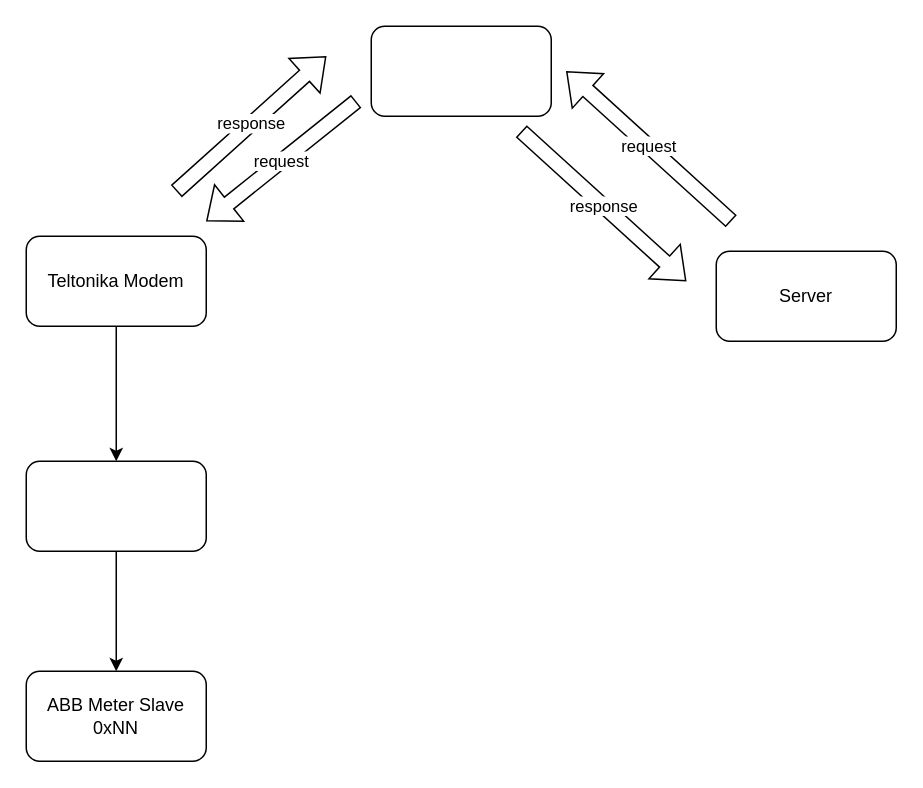
Some shapes in this 923 by 788 pixel diagram are drawn without their labels. Here are the shapes that lost their labels. From the top down, the centre of each, then its label:
(460,70): MQTT Broker
(115,505): ABB Meter Slave 0x01
